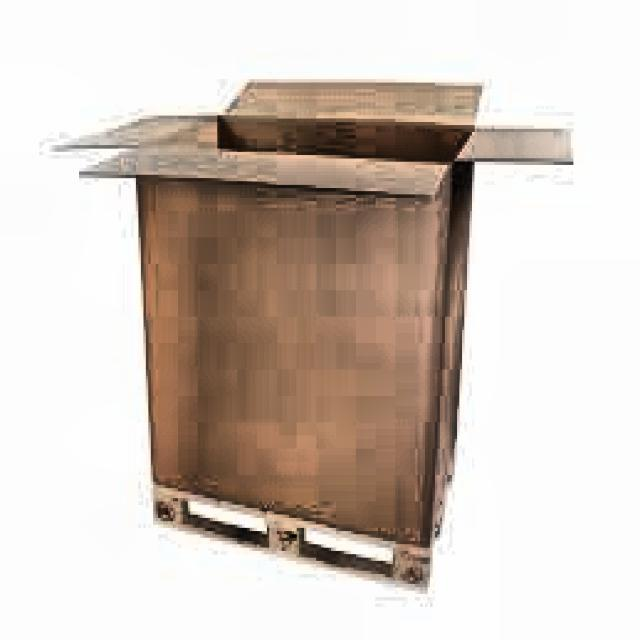Cardbox: (103, 59, 584, 600)
